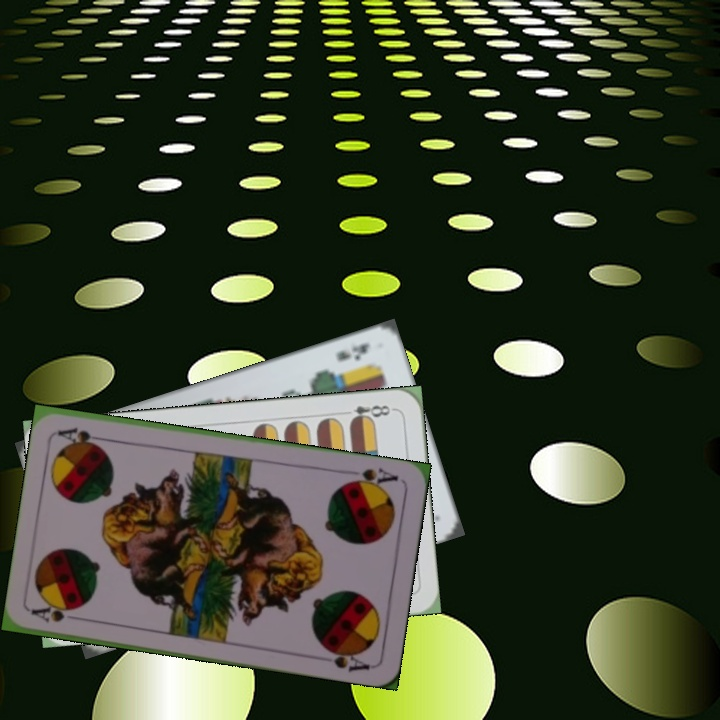E8: (338, 401, 397, 426)
EK: (332, 339, 373, 364)
SA: (342, 463, 401, 492), (28, 601, 87, 626)
